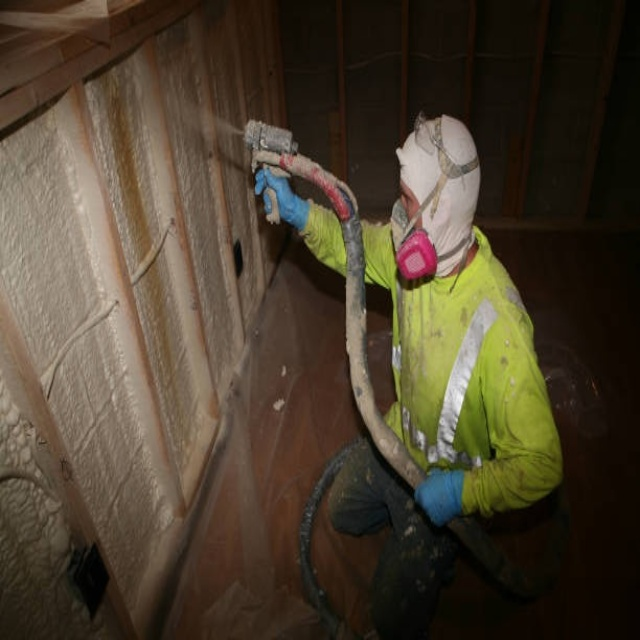Guantes: (257, 169, 310, 232), (414, 468, 467, 527)
Mascara: (389, 198, 438, 287)
Sin_gafas: (399, 179, 420, 215)
